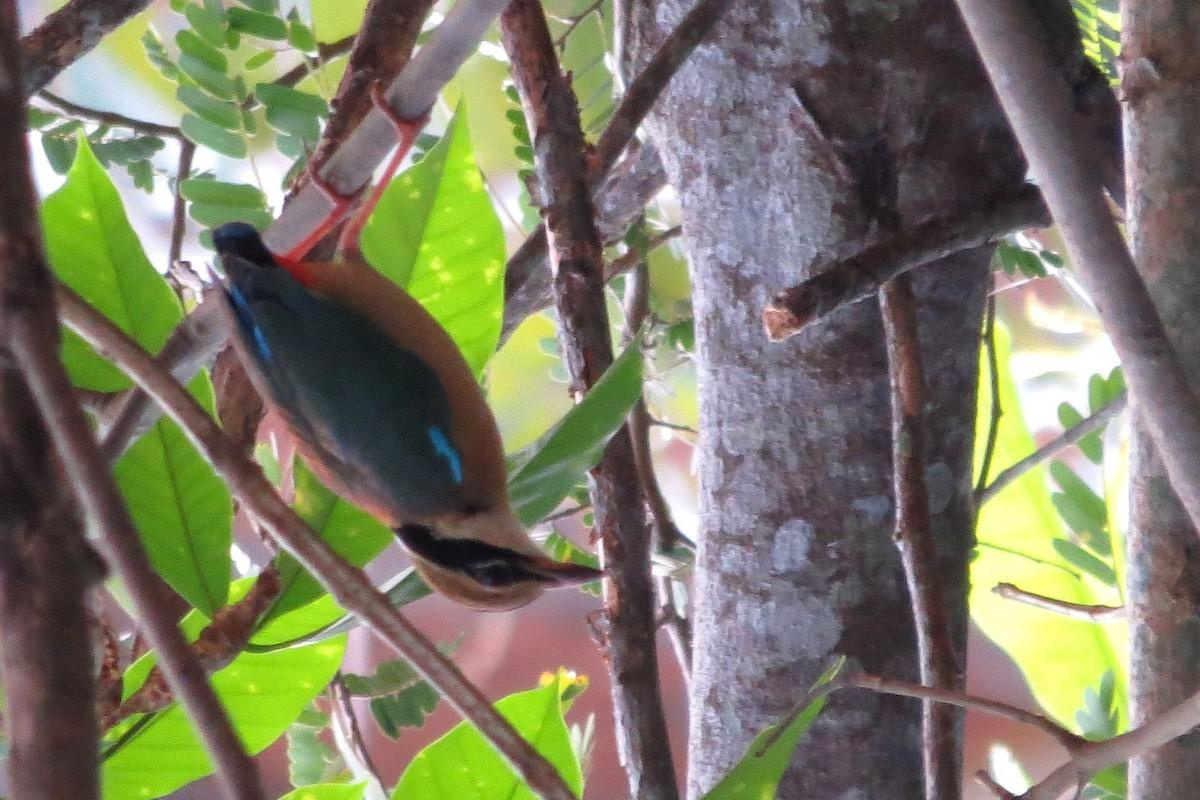pitta: (173, 183, 624, 668)
